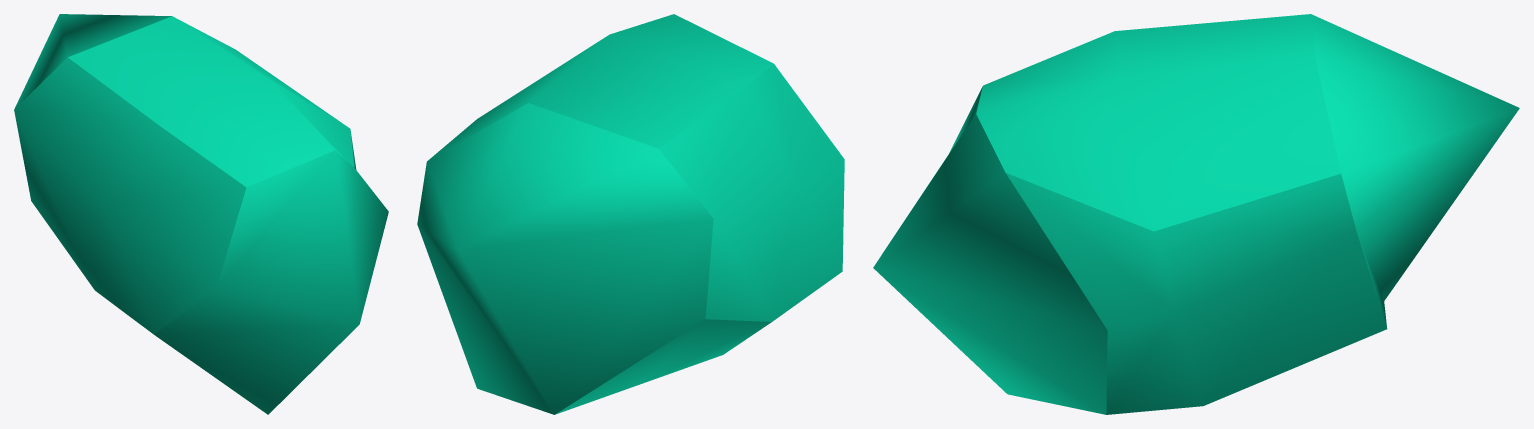
File: BreadCrumb.fbx
The picture shows the model from 3 angles, left to right: view 1: azimuth 30°, elevation 25°; view 2: azimuth 150°, elevation 25°; view 3: azimuth 270°, elevation 25°; orthographic projection. The views are drawn at different scales.
Visible parts, largest first — view 1: pCube1; view 2: pCube1; view 3: pCube1.
Boxes of the visible parts, x1,y1,x2,y2 form: pCube1: [14, 14, 388, 414]; pCube1: [417, 14, 844, 414]; pCube1: [873, 14, 1519, 414].
Size of the model in its own units: 4.75 by 4.7 by 7.79.
